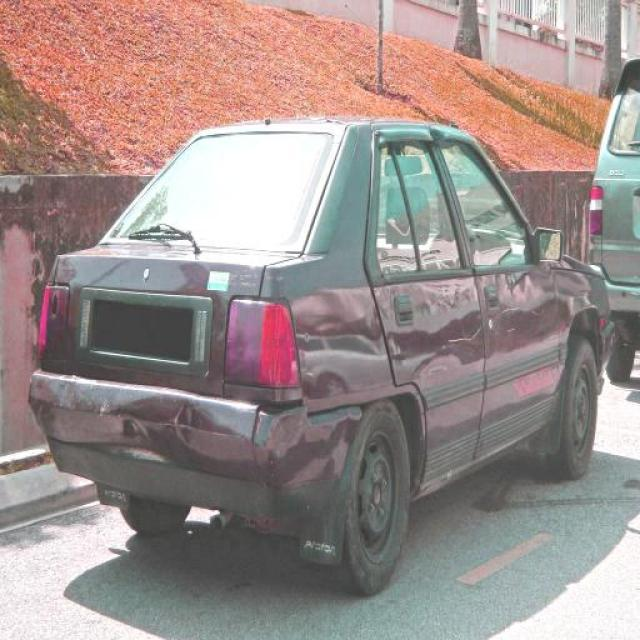Car-Damage: (98, 385, 263, 483)
